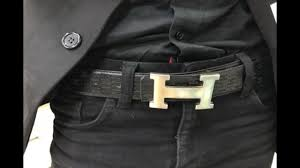F_belt: (49, 56, 280, 114)
